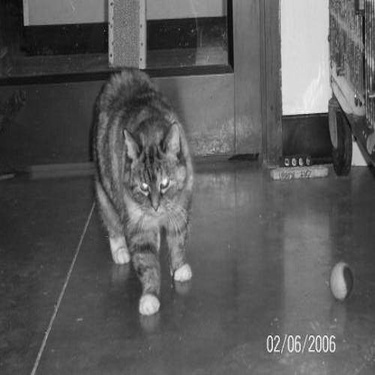cat: (78, 54, 212, 310)
